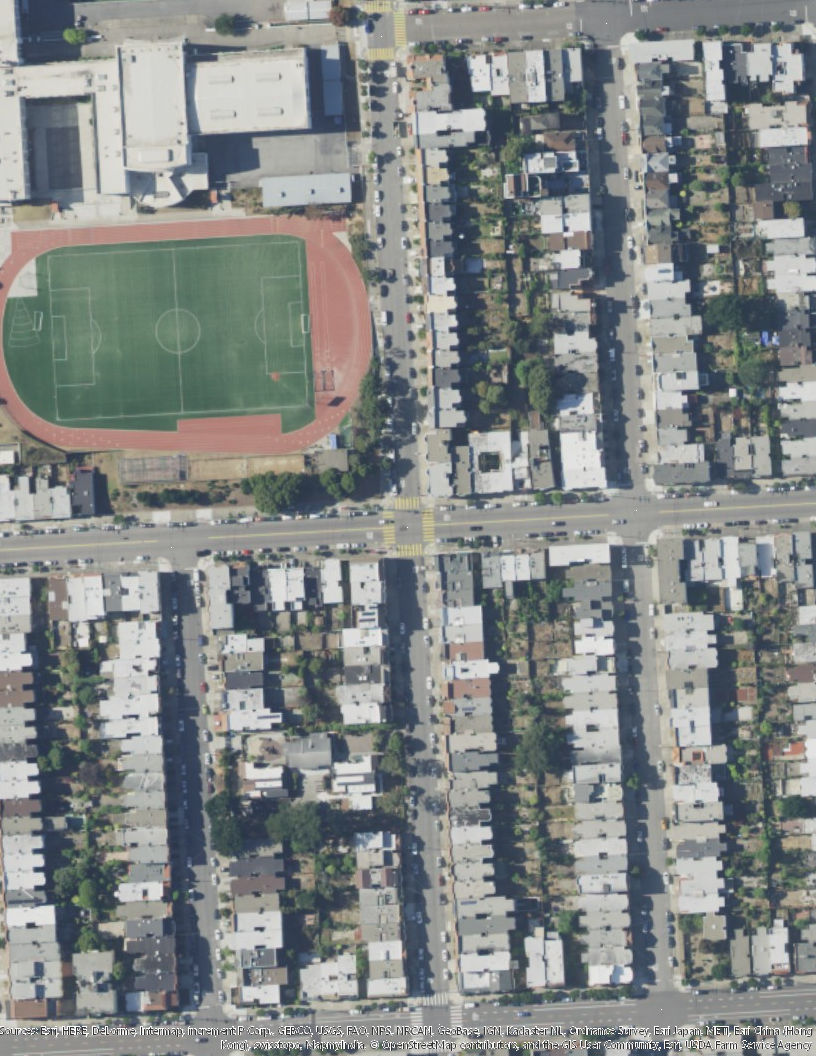zebracross: (420, 510, 436, 543), (382, 511, 397, 546), (394, 10, 406, 46), (366, 46, 394, 61), (422, 993, 451, 1007), (363, 1, 392, 15), (396, 495, 419, 512), (398, 544, 423, 557), (451, 1007, 462, 1027), (412, 1007, 423, 1023)
